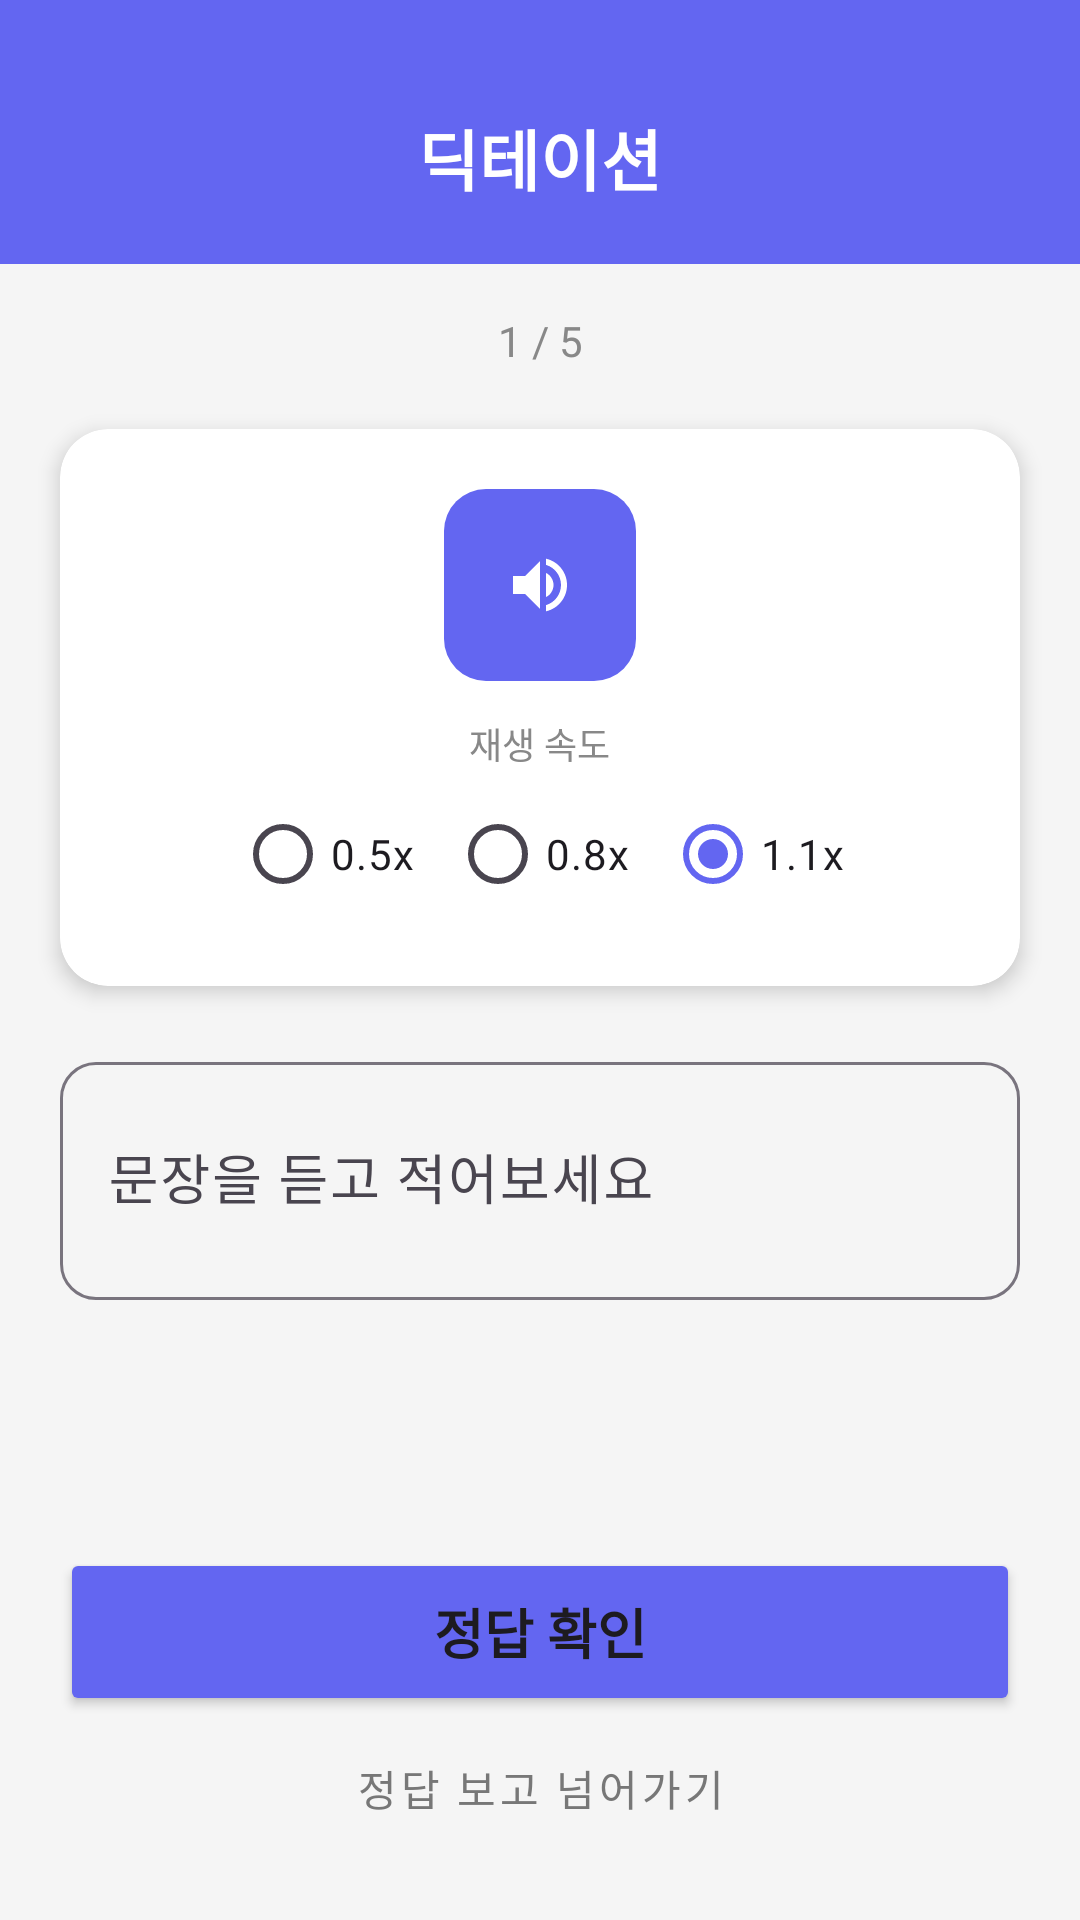

Screen size 1080 × 1920. Icon name, then its box in pixels as [left=x1, top=y1, right=x2, bottom=y2]:
volume up: [left=444, top=489, right=636, bottom=681]
